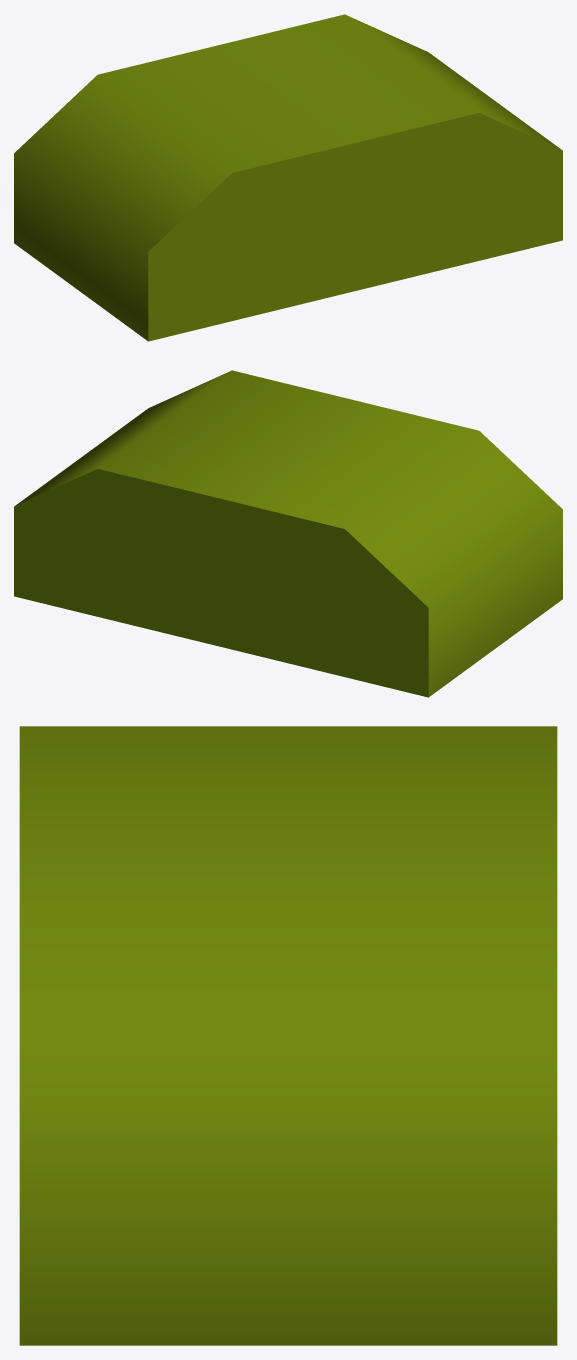
The model's file is Door1BorderConnector.FBX.
The picture shows the model from 3 angles, top to bottom: view 1: azimuth 30°, elevation 25°; view 2: azimuth 150°, elevation 25°; view 3: azimuth 270°, elevation 25°; orthographic projection. The views are drawn at different scales.
Visible parts, largest first — view 1: Object210; view 2: Object210; view 3: Object210.
Part boxes in pixels (box(x1,y1,x2,y2)): Object210: box(14, 14, 562, 341); Object210: box(14, 370, 562, 697); Object210: box(19, 726, 557, 1345).
Size of the model in its own units: 4.59 by 1.57 by 2.58.
